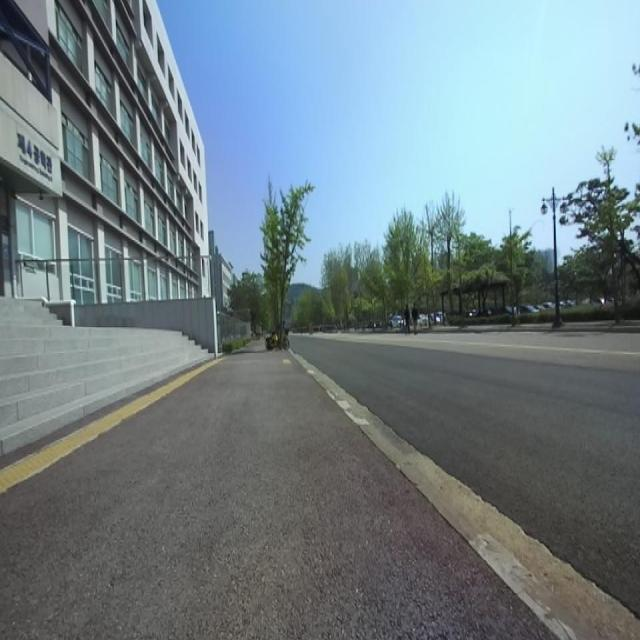sidewalk: (0, 351, 552, 639)
